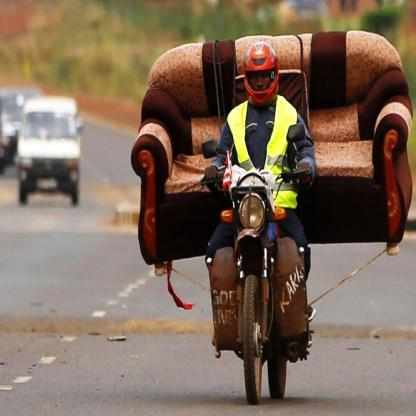helmet: (243, 42, 280, 107)
